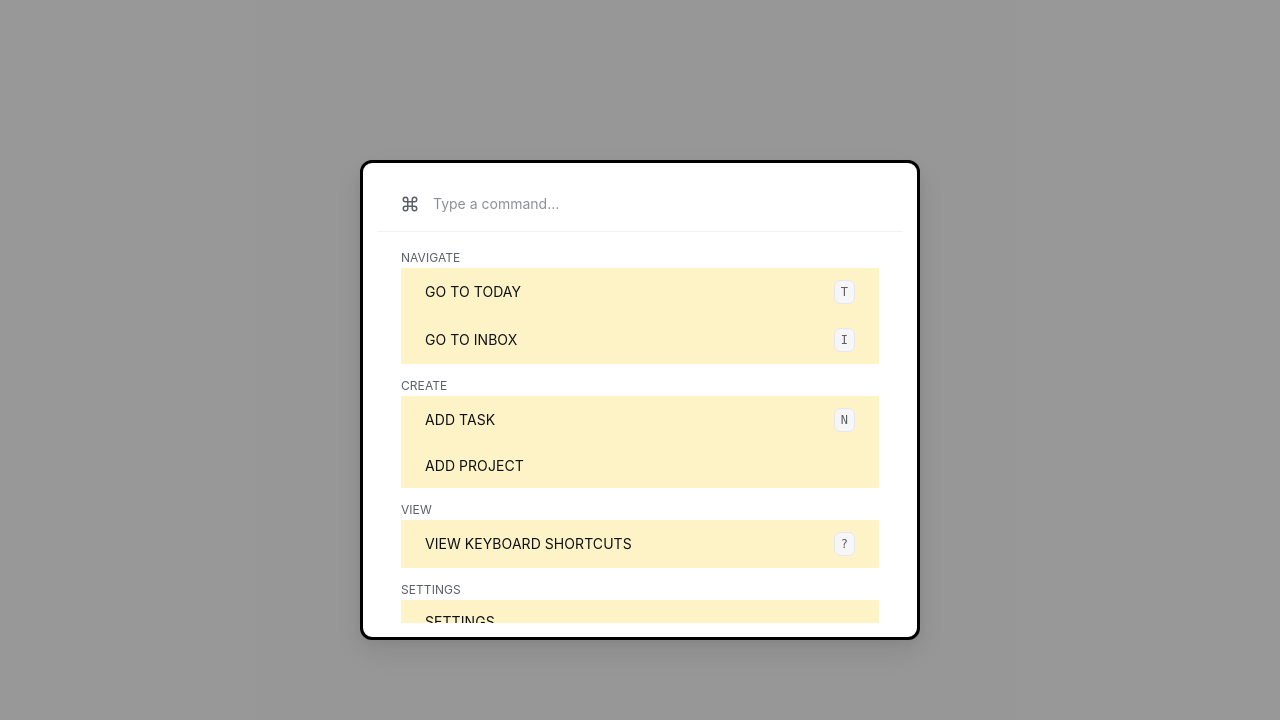
CommandPalette — dynamic commands › shows "Go to #<tag>" for each tag when searching
In the dropdown with placeholder "Type a command…": (655, 204) [431, 193, 879, 215], type "urgent"
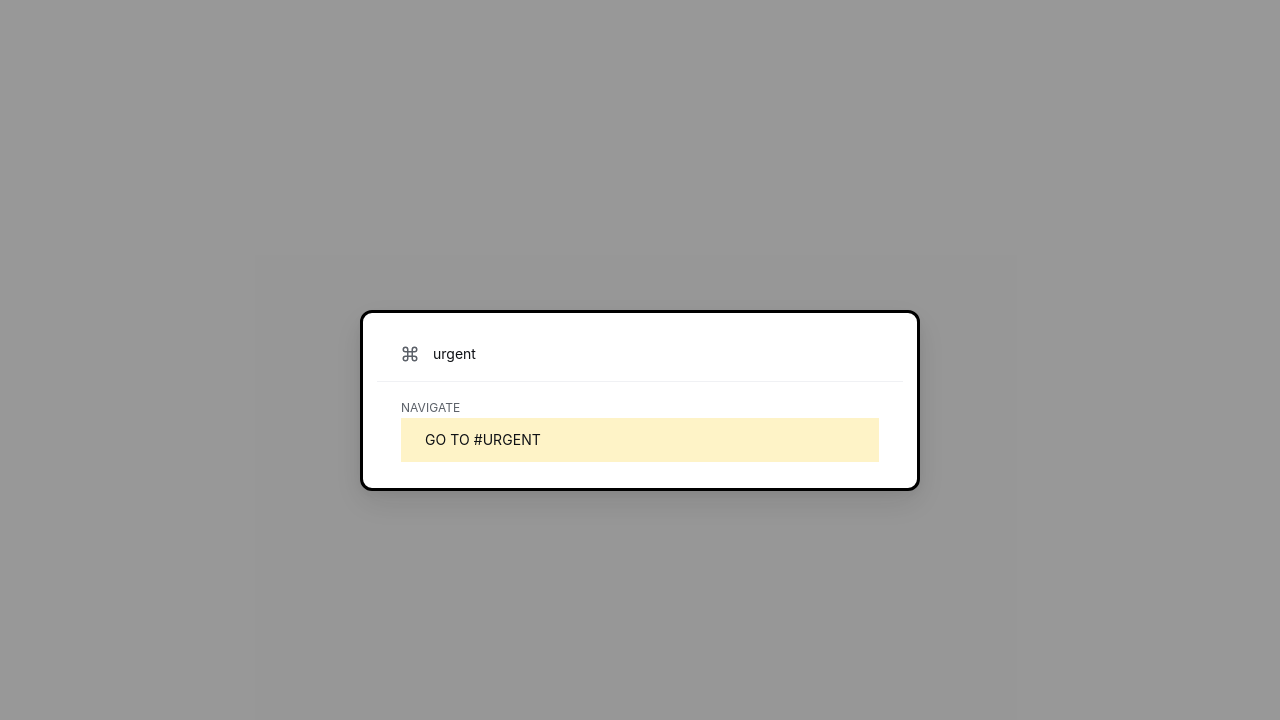
Check: the text "Go to #urgent" is shown, box [425, 430, 541, 448]
